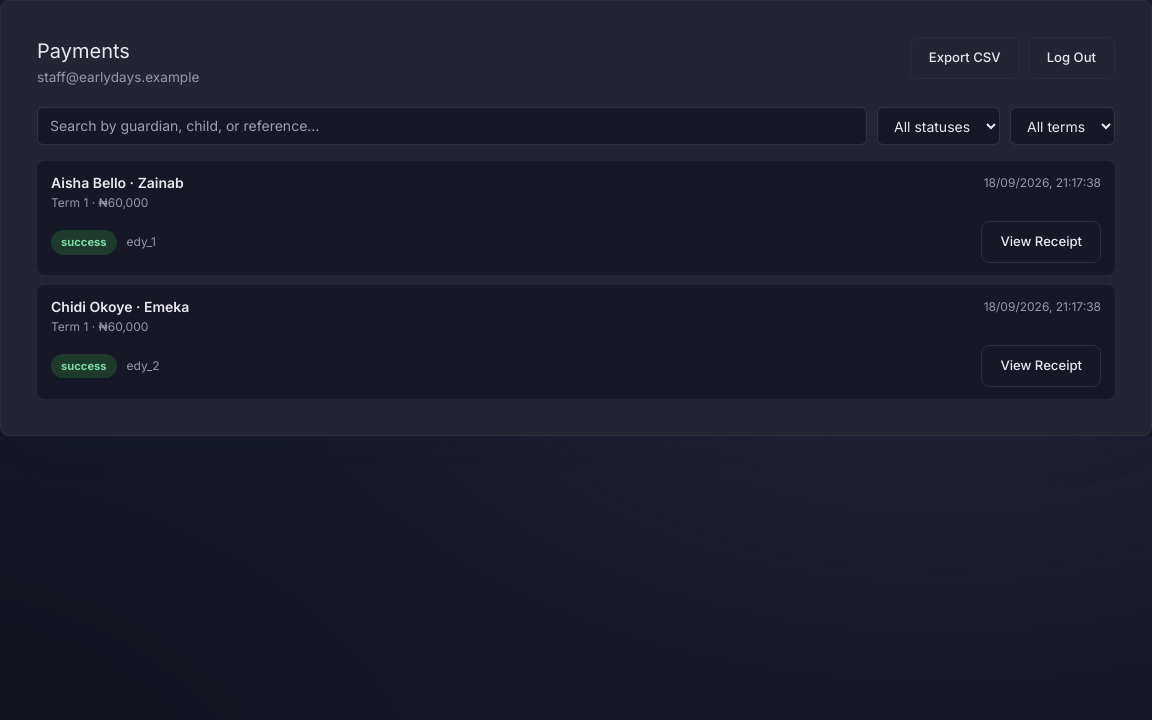
Test: AdminPaymentsPanel › narrows the list by a search term
Expected: the text "Aisha Bello · Zainab" is shown, [51,173,184,193]
Expected: the text "Chidi Okoye · Emeka" is shown, [51,297,189,317]
In the field named "Search payments": (452, 126) [37,107,867,145], type "Emeka"
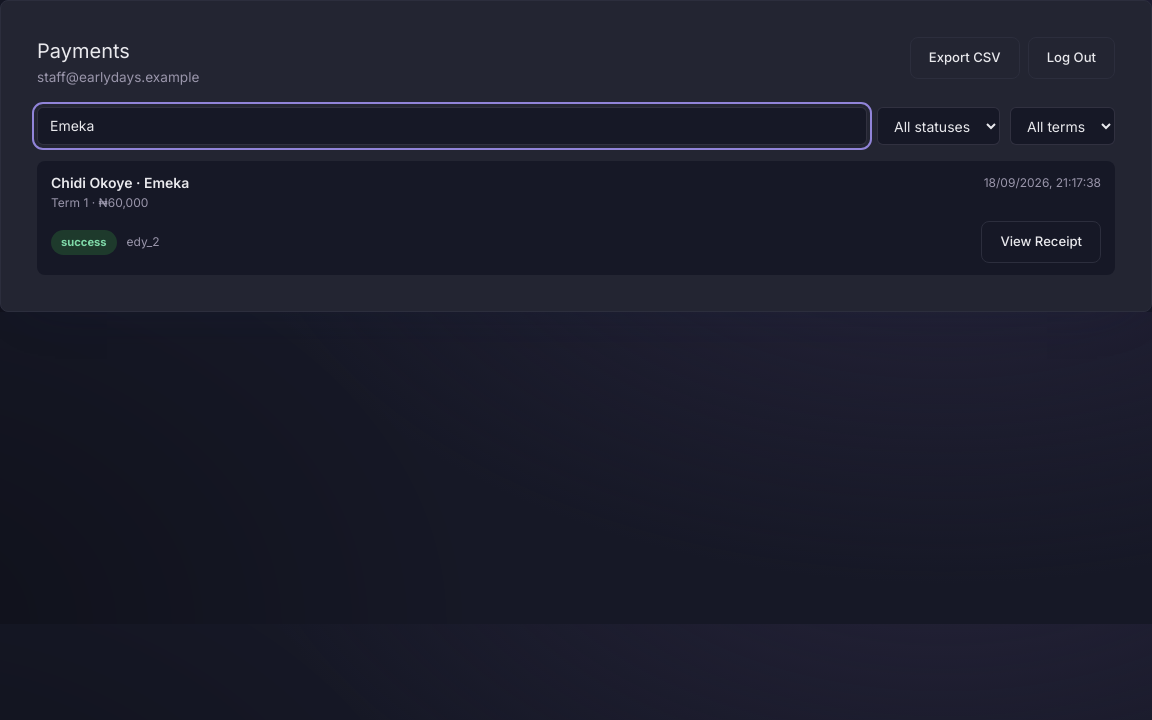
Expected: the text "Chidi Okoye · Emeka" is shown, [51,173,189,193]
Expected: the text "Aisha Bello · Zainab" is gone
